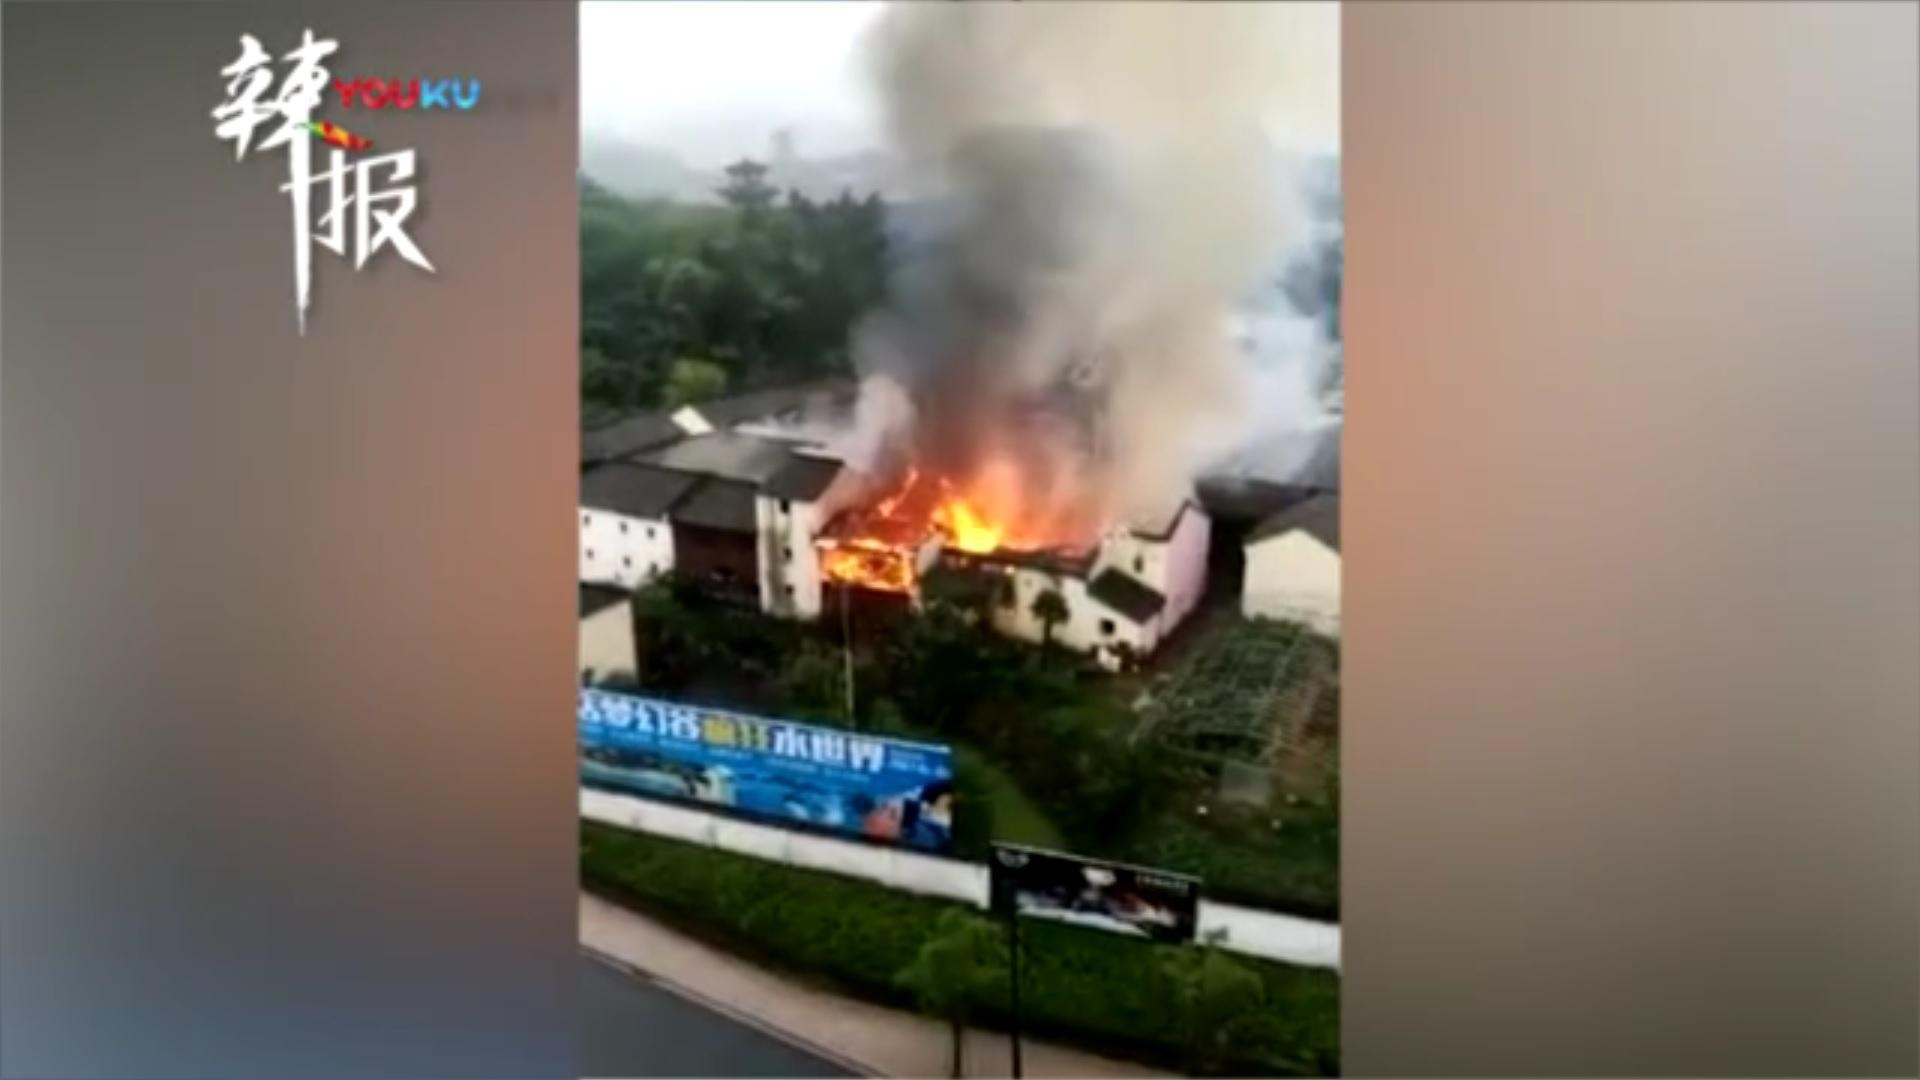fire: (823, 463, 1025, 585)
